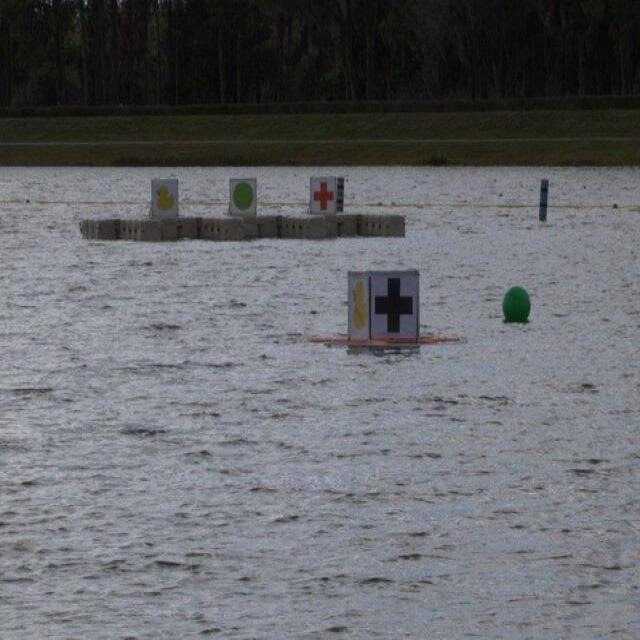Green_Buoy: (496, 276, 536, 336)
